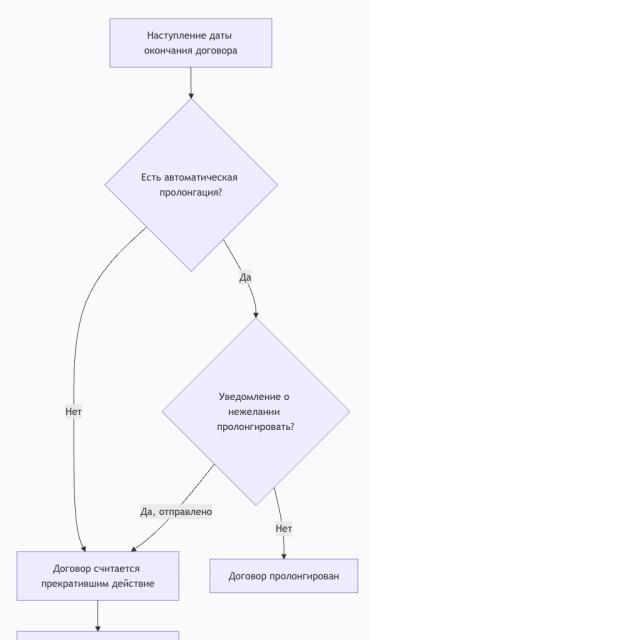arrow: (72, 228, 146, 403), (73, 420, 86, 551), (182, 465, 214, 504), (249, 285, 258, 317), (274, 489, 282, 521), (96, 601, 100, 631), (189, 68, 193, 98), (282, 537, 286, 558)
diamond: (164, 319, 348, 504), (106, 100, 276, 269)
rectangle: (17, 552, 179, 600), (110, 19, 272, 67), (210, 559, 358, 593)
text_region: (140, 506, 212, 518), (274, 522, 292, 534), (66, 406, 82, 416), (240, 272, 252, 284)
